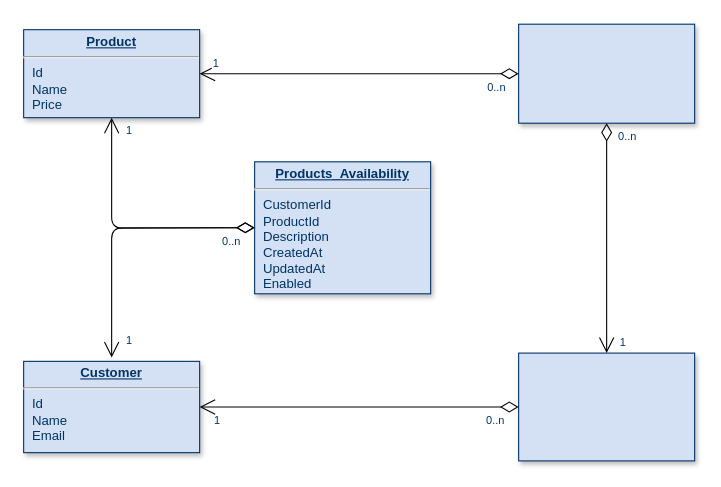
Some shapes in this 721 by 487 pixel diagram are drawn without their labels. Here are the shapes that lost their labels. From the top down, the centre of each, then its label:
At point 607,75: "Order_Products OrderId ProductId Quantity".
At point 607,408: "Order Id CustomerId CreationDate TotalPrice".
